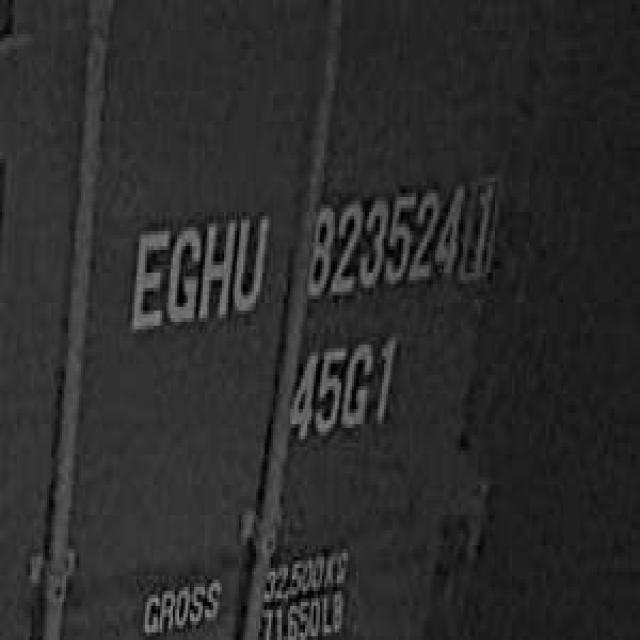dv: (461, 159, 501, 292)
owner: (124, 197, 271, 337)
serial: (303, 170, 461, 303)
size: (284, 329, 401, 447)
